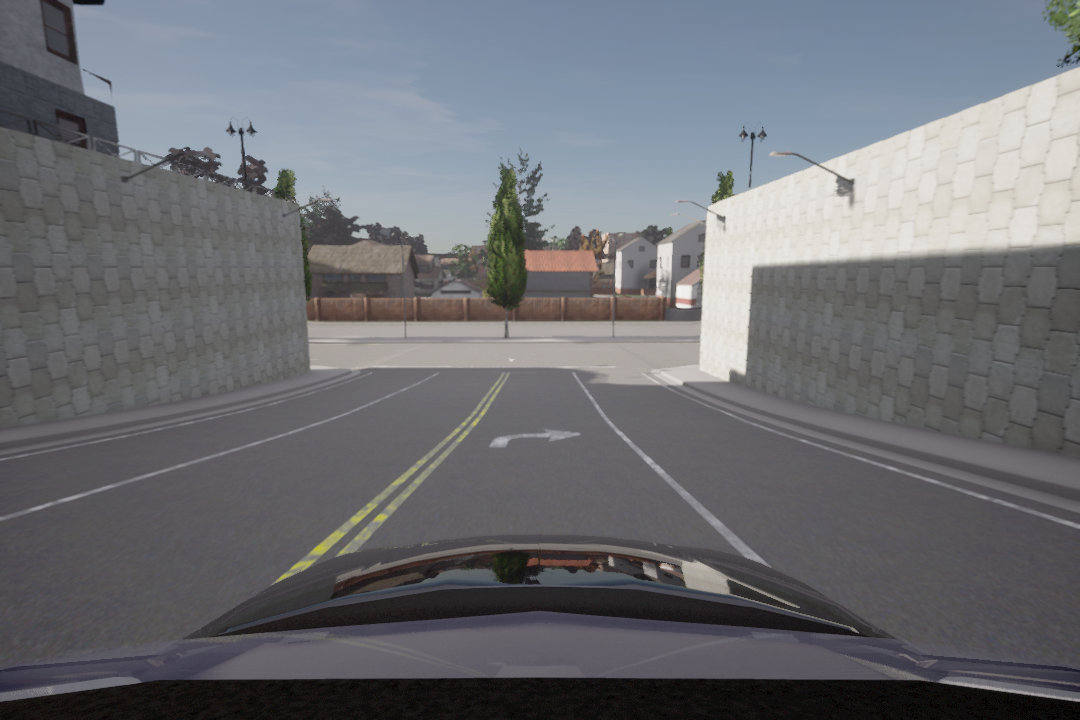RoadSign_right: (478, 423, 587, 453)
